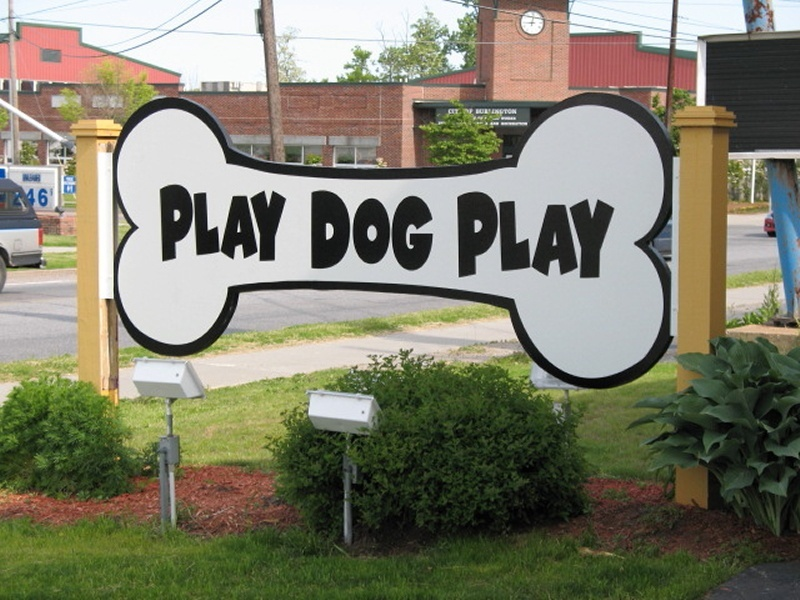text: (465, 191, 480, 282), (481, 191, 496, 282), (497, 191, 512, 282), (513, 191, 528, 282), (529, 191, 544, 282), (545, 191, 560, 282), (561, 191, 576, 282), (577, 191, 592, 282), (593, 191, 608, 282), (321, 190, 336, 273), (337, 190, 352, 273), (353, 190, 368, 273), (369, 190, 384, 273), (385, 190, 400, 273), (401, 190, 416, 273), (417, 190, 432, 273), (161, 185, 176, 264), (177, 185, 192, 264), (193, 185, 208, 264), (209, 185, 224, 264), (225, 185, 240, 264), (241, 185, 256, 264), (257, 185, 272, 264), (273, 185, 288, 264), (609, 191, 618, 282), (311, 190, 320, 273), (456, 191, 464, 282), (17, 186, 32, 214), (33, 186, 48, 214), (17, 187, 32, 207), (33, 187, 48, 207), (9, 186, 16, 214), (49, 186, 56, 214), (433, 190, 435, 273), (481, 109, 496, 117), (497, 109, 512, 117), (66, 186, 80, 194), (22, 174, 32, 184), (33, 174, 43, 184), (12, 187, 16, 207), (159, 185, 160, 264), (449, 109, 460, 116), (497, 123, 512, 128), (513, 123, 528, 128), (481, 118, 496, 122), (497, 118, 512, 122), (513, 109, 519, 117), (487, 123, 496, 128), (49, 187, 51, 207), (475, 109, 480, 117), (513, 118, 519, 122), (475, 118, 480, 122), (529, 123, 530, 128)
